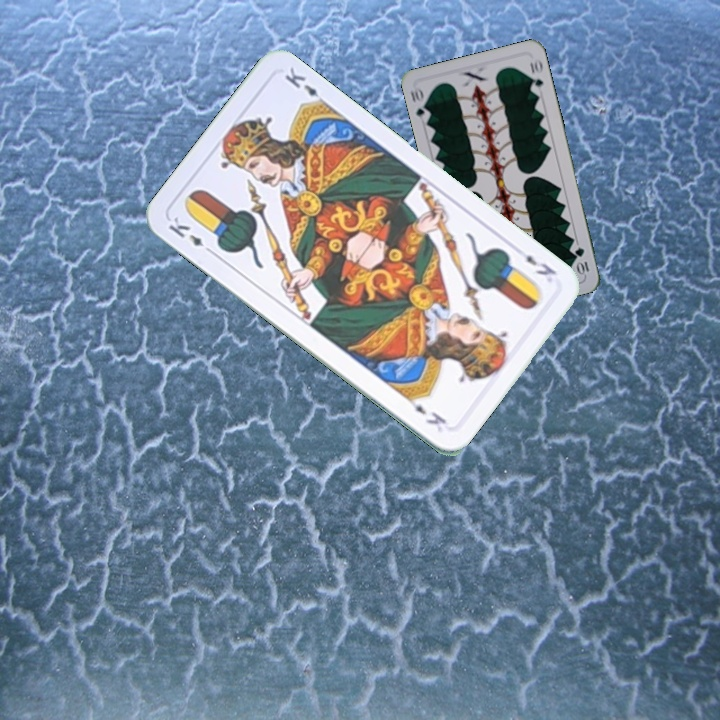EK: (164, 212, 217, 257), (512, 243, 559, 279)
G10: (406, 83, 433, 122), (571, 243, 592, 277)
